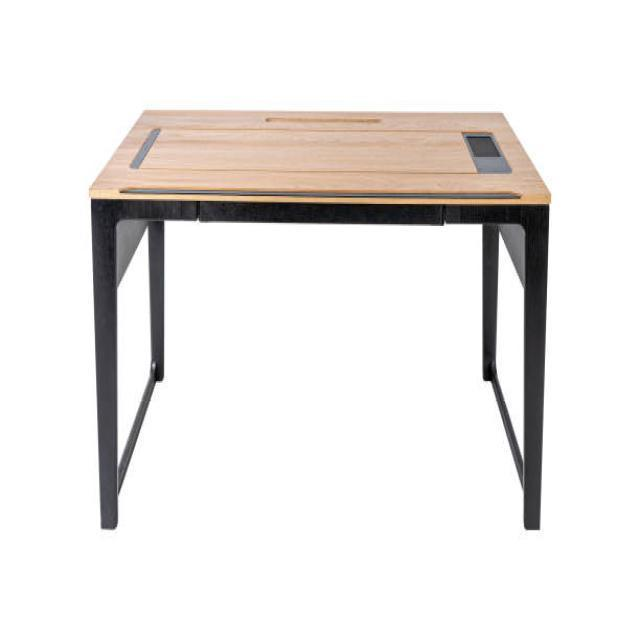table: (88, 106, 552, 532)
